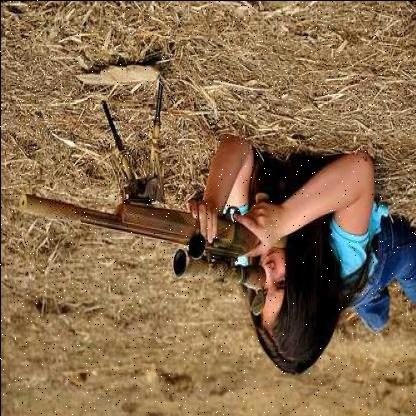rifle: (1, 163, 290, 287)
